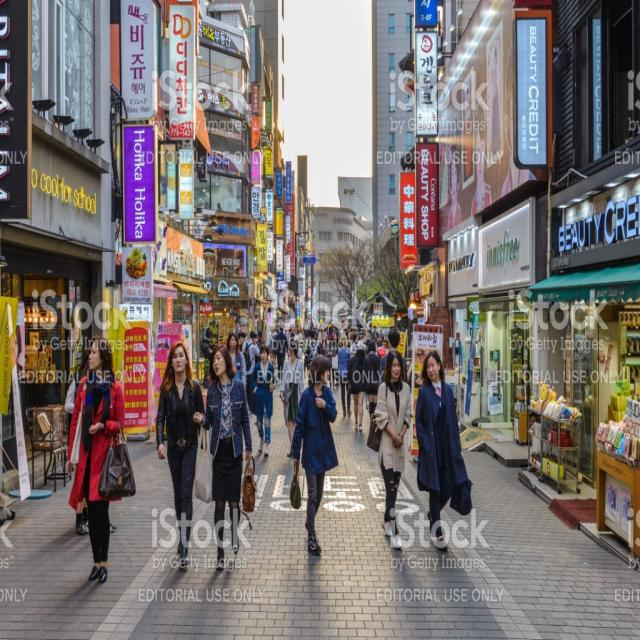body: (64, 334, 139, 586), (190, 342, 259, 574), (449, 42, 535, 228), (152, 338, 207, 574), (413, 348, 474, 553), (287, 352, 340, 558), (363, 346, 413, 551), (66, 346, 93, 537), (249, 343, 279, 459), (278, 342, 306, 459), (288, 318, 389, 348), (378, 326, 409, 385), (348, 348, 368, 434), (362, 338, 382, 418), (241, 328, 261, 407), (224, 331, 248, 396), (337, 334, 352, 417), (303, 328, 323, 386), (288, 333, 304, 404), (274, 325, 289, 383), (83, 516, 118, 535), (201, 318, 216, 357), (268, 324, 278, 366), (372, 330, 381, 369), (374, 336, 387, 358), (237, 330, 247, 352), (325, 325, 338, 341), (296, 322, 306, 340), (256, 330, 265, 348), (371, 324, 379, 341)
